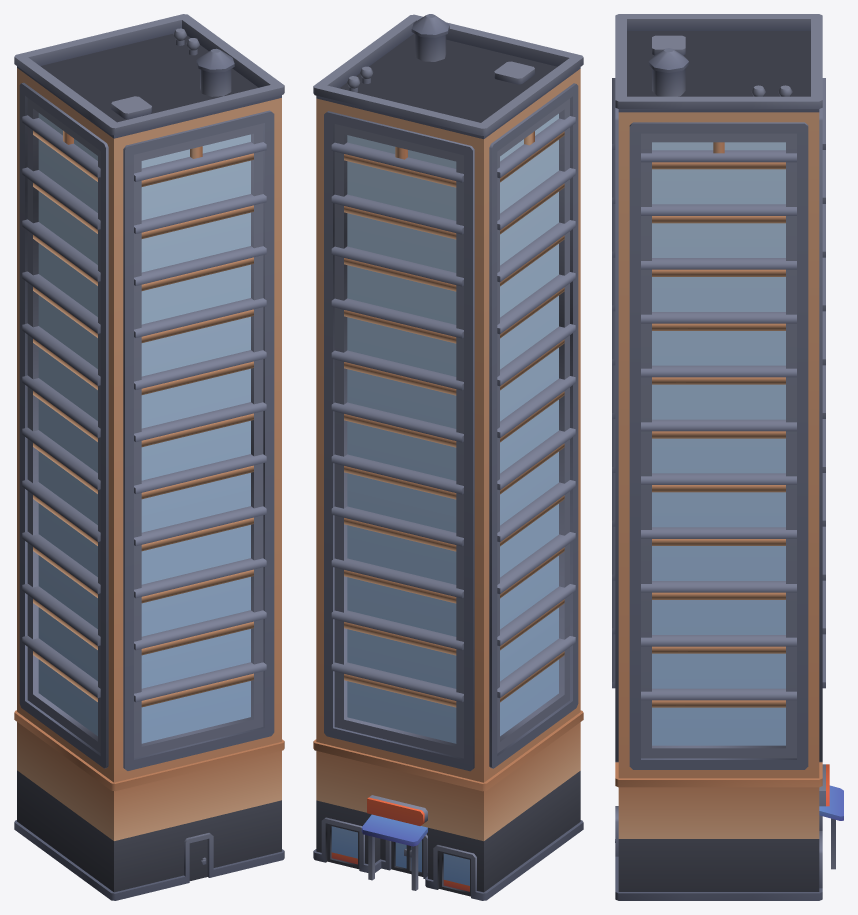
Rendered from building-skyscraper-d.glb.
3 renders of one model, left to right at view 1: azimuth 30°, elevation 25°; view 2: azimuth 150°, elevation 25°; view 3: azimuth 270°, elevation 25°, orthographic. The views are drawn at different scales.
Visible parts, largest first — view 1: building-skyscraper-d; view 2: building-skyscraper-d; view 3: building-skyscraper-d.
Boxes of the visible parts, x1,y1,x2,y2 form: building-skyscraper-d: (14, 14, 284, 900); building-skyscraper-d: (313, 14, 583, 900); building-skyscraper-d: (612, 14, 843, 900).
Bounding box in the file's own units: 1.28 × 5.47 × 1.39.
Materials: 1 (1 with a texture image).
